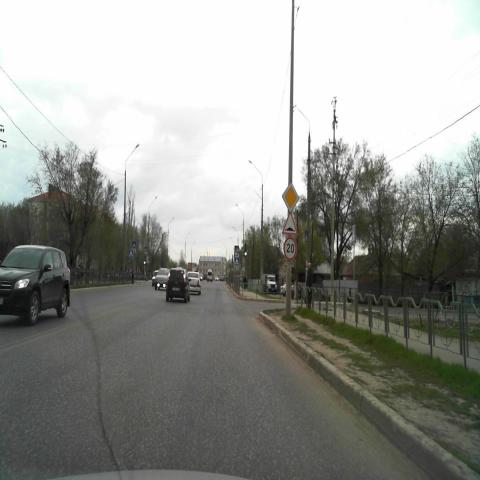1_17: (282, 212, 298, 236)
2_1: (281, 182, 299, 212)
3_24: (283, 238, 297, 259)
5_19_1: (351, 224, 357, 246)
